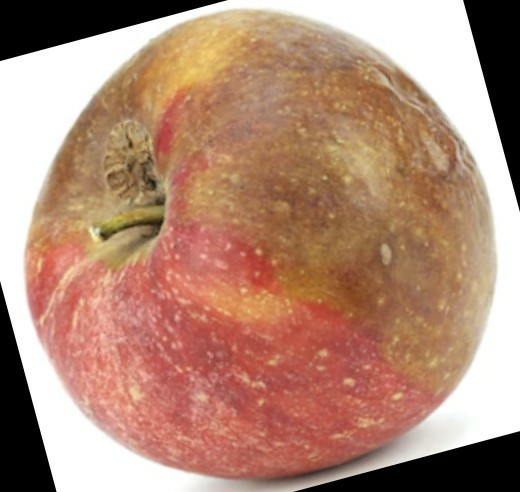rotten_apple: (26, 12, 495, 472)
